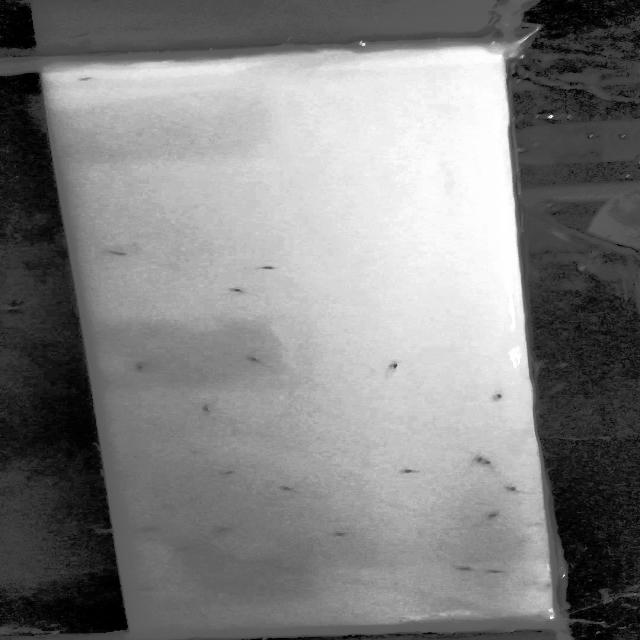shrimp: (219, 283, 262, 300), (394, 464, 434, 482), (474, 507, 511, 523), (100, 246, 138, 260), (490, 387, 512, 409), (132, 524, 172, 536), (212, 522, 242, 538), (172, 542, 206, 556), (252, 262, 282, 276), (328, 528, 355, 542), (452, 561, 479, 575), (269, 482, 300, 494), (242, 352, 268, 366), (502, 485, 530, 498), (487, 564, 513, 578), (122, 361, 152, 373), (212, 468, 248, 478), (69, 74, 105, 84), (380, 361, 408, 373), (202, 402, 220, 418), (134, 586, 157, 593), (471, 455, 485, 463), (482, 459, 496, 466)
